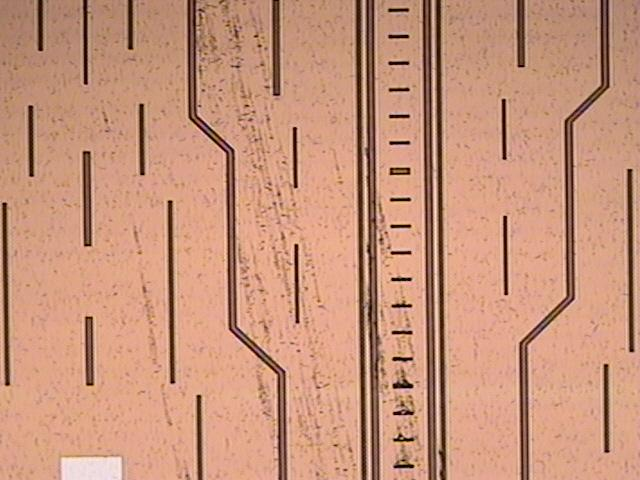SCRATCH: (80, 1, 431, 480)
